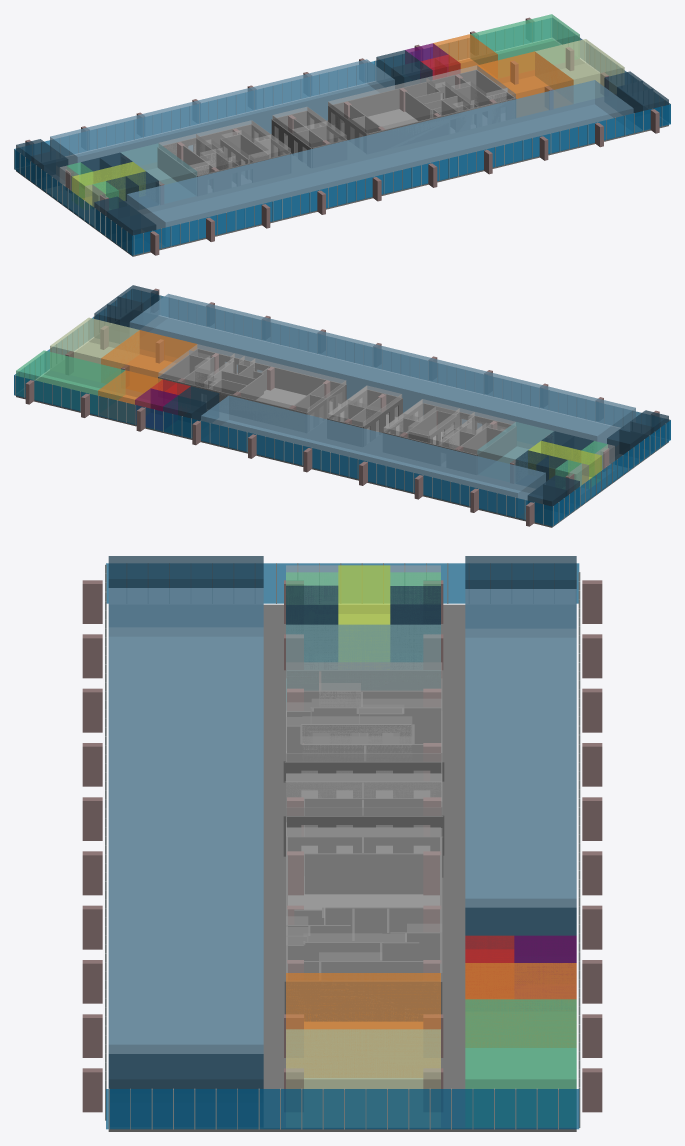
File: hypar_space_model_00.glb
3 renders of one model, top to bottom at view 1: azimuth 30°, elevation 25°; view 2: azimuth 150°, elevation 25°; view 3: azimuth 270°, elevation 25°, orthographic. The views are drawn at different scales.
Visible parts, largest first — view 1: bd2bcfe9-4e2f-4618-b86d-38bd71c1ca07_mesh, da194070-b559-444b-822a-4c234752a749_mesh, da273ebd-0088-45a1-9bea-a0357ac10372_mesh, d48997b3-8d67-40cd-835b-7f0171579fba_mesh, ce21e404-2114-4ed6-b319-3878024b799a_mesh, f056bb4a-b221-494a-a43b-10ce2cc354f2_mesh, d9c8c6bc-d03b-4d3c-9844-709ff72d27d1_mesh, 4a30be6c-e3ed-43be-b2ad-36ffd2ef821f_mesh, e6b18b4e-0627-4a4d-927e-14aee316260e_mesh, 9326cc0c-a79c-4c6f-bfa4-11fcffd5d383_mesh, d769261e-0338-4055-81b1-9495f055cf48_mesh, dba4477c-d757-41f7-a3c2-e53286ba1837_mesh (+40 smaller); view 2: bd2bcfe9-4e2f-4618-b86d-38bd71c1ca07_mesh, da194070-b559-444b-822a-4c234752a749_mesh, da273ebd-0088-45a1-9bea-a0357ac10372_mesh, d48997b3-8d67-40cd-835b-7f0171579fba_mesh, ce21e404-2114-4ed6-b319-3878024b799a_mesh, f056bb4a-b221-494a-a43b-10ce2cc354f2_mesh, d9c8c6bc-d03b-4d3c-9844-709ff72d27d1_mesh, 9326cc0c-a79c-4c6f-bfa4-11fcffd5d383_mesh, e6b18b4e-0627-4a4d-927e-14aee316260e_mesh, ed221b48-975d-4ad7-bd1f-3a1e14427dc5_mesh, 7ffb759f-5963-4c92-ae8d-95de7973c464_mesh, d769261e-0338-4055-81b1-9495f055cf48_mesh (+38 smaller); view 3: da194070-b559-444b-822a-4c234752a749_mesh, bd2bcfe9-4e2f-4618-b86d-38bd71c1ca07_mesh, da273ebd-0088-45a1-9bea-a0357ac10372_mesh, d48997b3-8d67-40cd-835b-7f0171579fba_mesh, d9c8c6bc-d03b-4d3c-9844-709ff72d27d1_mesh, f056bb4a-b221-494a-a43b-10ce2cc354f2_mesh, ce21e404-2114-4ed6-b319-3878024b799a_mesh, e6b18b4e-0627-4a4d-927e-14aee316260e_mesh, ed221b48-975d-4ad7-bd1f-3a1e14427dc5_mesh, 1a4e4bb0-654b-4a4f-b593-2fdbcbf9f2aa_mesh, 2b984649-7ff5-4586-a501-e78660b74ffe_mesh, d769261e-0338-4055-81b1-9495f055cf48_mesh (+91 smaller).
Boxes of the visible parts, x1,y1,x2,y2 form: bd2bcfe9-4e2f-4618-b86d-38bd71c1ca07_mesh: (127,80,633,245); da194070-b559-444b-822a-4c234752a749_mesh: (16,39,668,256); da273ebd-0088-45a1-9bea-a0357ac10372_mesh: (50,59,394,174); d48997b3-8d67-40cd-835b-7f0171579fba_mesh: (328,78,478,139); ce21e404-2114-4ed6-b319-3878024b799a_mesh: (470,14,579,77); f056bb4a-b221-494a-a43b-10ce2cc354f2_mesh: (535,39,624,103); d9c8c6bc-d03b-4d3c-9844-709ff72d27d1_mesh: (477,51,573,116); 4a30be6c-e3ed-43be-b2ad-36ffd2ef821f_mesh: (366,98,514,153); e6b18b4e-0627-4a4d-927e-14aee316260e_mesh: (120,143,197,204); 9326cc0c-a79c-4c6f-bfa4-11fcffd5d383_mesh: (330,69,477,124); d769261e-0338-4055-81b1-9495f055cf48_mesh: (72,162,145,208); dba4477c-d757-41f7-a3c2-e53286ba1837_mesh: (197,153,290,195); bd2bcfe9-4e2f-4618-b86d-38bd71c1ca07_mesh: (129,293,635,452); da194070-b559-444b-822a-4c234752a749_mesh: (16,316,668,527); da273ebd-0088-45a1-9bea-a0357ac10372_mesh: (201,395,545,516); d48997b3-8d67-40cd-835b-7f0171579fba_mesh: (207,353,345,417); ce21e404-2114-4ed6-b319-3878024b799a_mesh: (16,350,125,414); f056bb4a-b221-494a-a43b-10ce2cc354f2_mesh: (50,317,139,381); d9c8c6bc-d03b-4d3c-9844-709ff72d27d1_mesh: (101,330,197,392); 9326cc0c-a79c-4c6f-bfa4-11fcffd5d383_mesh: (158,376,305,431); e6b18b4e-0627-4a4d-927e-14aee316260e_mesh: (477,422,554,481); ed221b48-975d-4ad7-bd1f-3a1e14427dc5_mesh: (98,370,162,423); 7ffb759f-5963-4c92-ae8d-95de7973c464_mesh: (382,432,477,474); d769261e-0338-4055-81b1-9495f055cf48_mesh: (528,440,601,488); da194070-b559-444b-822a-4c234752a749_mesh: (108,604,576,1131); bd2bcfe9-4e2f-4618-b86d-38bd71c1ca07_mesh: (108,588,263,1088); da273ebd-0088-45a1-9bea-a0357ac10372_mesh: (465,589,576,934); d48997b3-8d67-40cd-835b-7f0171579fba_mesh: (286,828,442,944); d9c8c6bc-d03b-4d3c-9844-709ff72d27d1_mesh: (286,973,440,1077); f056bb4a-b221-494a-a43b-10ce2cc354f2_mesh: (286,1029,440,1126); ce21e404-2114-4ed6-b319-3878024b799a_mesh: (465,999,576,1126); e6b18b4e-0627-4a4d-927e-14aee316260e_mesh: (286,624,440,709); ed221b48-975d-4ad7-bd1f-3a1e14427dc5_mesh: (465,963,576,1047); 1a4e4bb0-654b-4a4f-b593-2fdbcbf9f2aa_mesh: (286,698,442,800); 2b984649-7ff5-4586-a501-e78660b74ffe_mesh: (284,980,439,1021); d769261e-0338-4055-81b1-9495f055cf48_mesh: (338,565,390,661).
Size of the model in its own units: 85.78 by 4.01 by 35.79.
